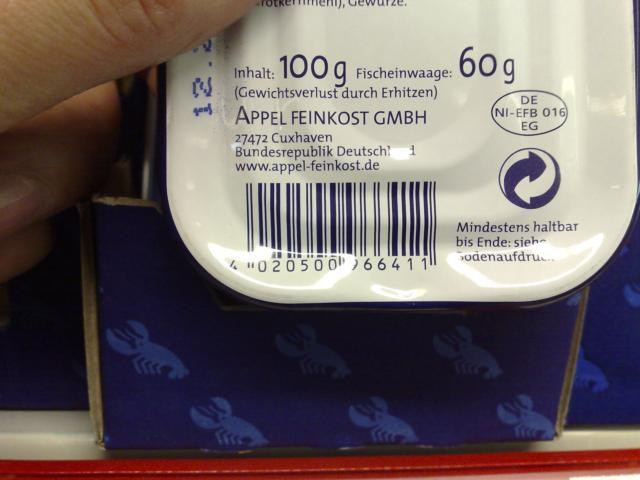Barcode: (224, 177, 441, 278)
